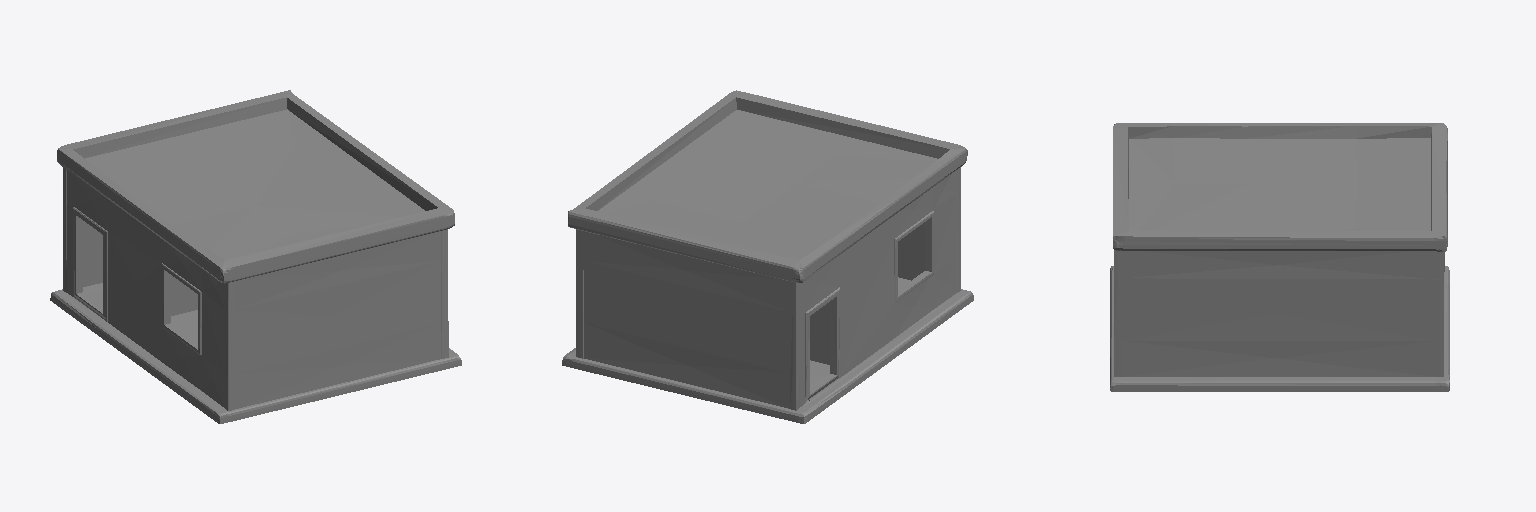
File: casa.obj
3 views of the same model, side by side, from view 1: azimuth 30°, elevation 25°; view 2: azimuth 150°, elevation 25°; view 3: azimuth 270°, elevation 25° (orthographic).
Visible parts, largest first — view 1: Cabin; view 2: Cabin; view 3: Cabin.
Part boxes in pixels (left/top/right/bottom): Cabin: left=50, top=90, right=461, bottom=423; Cabin: left=562, top=90, right=973, bottom=423; Cabin: left=1110, top=123, right=1449, bottom=391.
Size of the model in its own units: 1805 by 1098 by 2187.